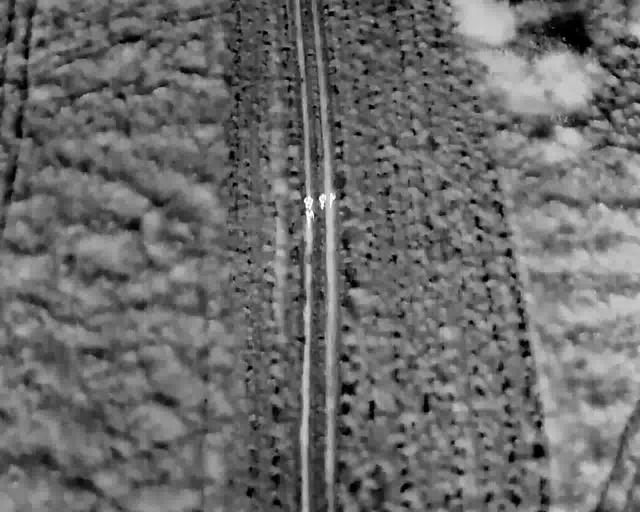person: (304, 205, 315, 227), (317, 189, 327, 211), (327, 189, 337, 210), (302, 194, 314, 211)
